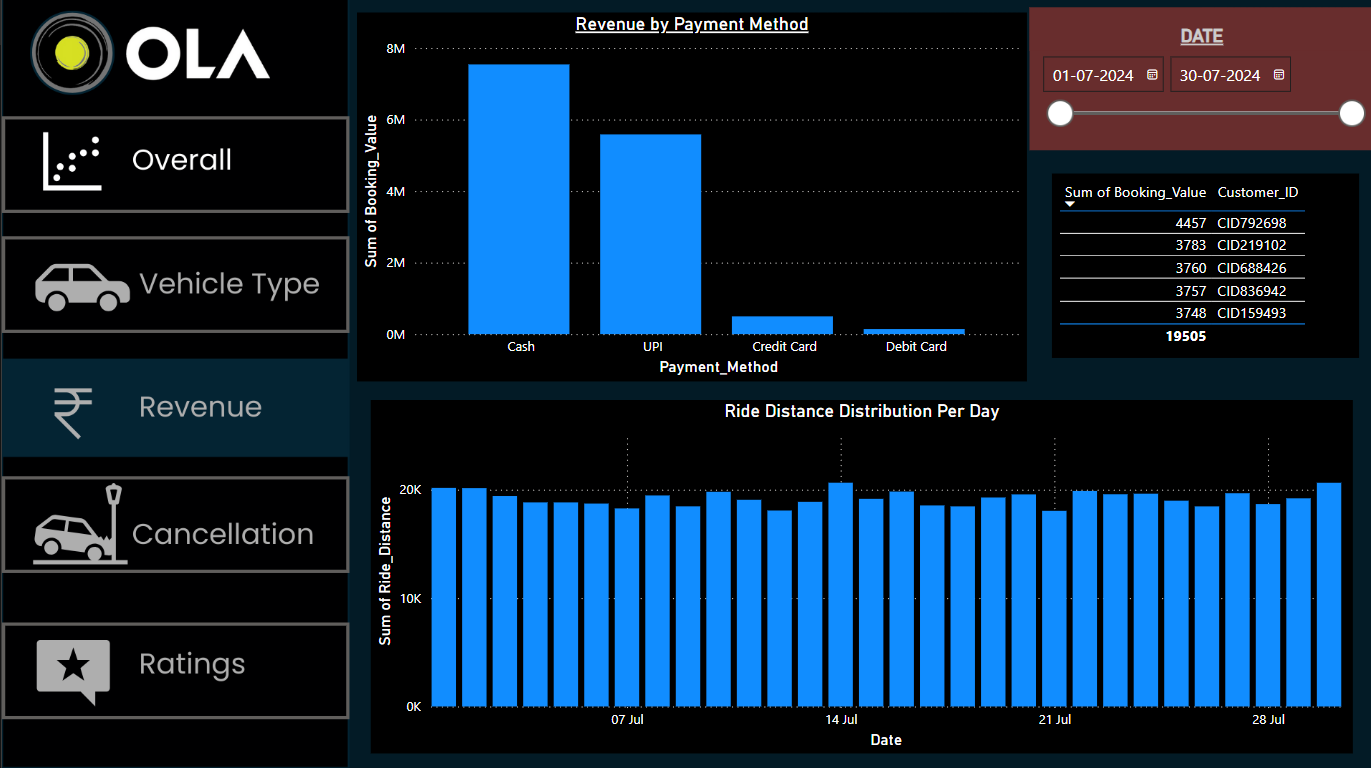

This screenshot's page, from the dashboard's own definition file:
{"tool":"powerbi","page":{"name":"Revenue","canvas":[1280,720],"ordinal":2},"visuals":[{"type":"actionButton","box":[0,113.3,323.3,90],"z":0},{"type":"actionButton","box":[0,224.4,323.3,90],"z":1000},{"type":"actionButton","box":[0,447.8,323.3,90],"z":2000},{"type":"actionButton","box":[0,583.3,323.3,90],"z":3000},{"type":"columnChart","title":"Revenue by Payment Method","fields":{"Category":["July.Payment_Method"],"Y":["Sum(July.Booking_Value)"]},"box":[330.2,16.3,623.3,343],"z":4000},{"type":"columnChart","title":"Ride Distance Distribution Per Day","fields":{"Y":["Sum(July.Ride_Distance)"],"Category":["July.Date"]},"box":[343,376.7,914,329.1],"z":5000},{"type":"slicer","title":"DATE","fields":{"Values":["July.Date"]},"box":[955.8,11.6,320.9,132.6],"z":6000},{"type":"tableEx","fields":{"Values":["Sum(July.Booking_Value)","July.Customer_ID"]},"box":[977,166,285.4,171.5],"z":7000}]}

Visuals, with their boxes in screenshot pixels (x1, y1, x2, y2), scaled from the page's 1280x720 canvas onto the 1371x768 screenshot:
actionButton: bbox=(0, 121, 346, 217)
actionButton: bbox=(0, 239, 346, 335)
actionButton: bbox=(0, 478, 346, 574)
actionButton: bbox=(0, 622, 346, 718)
"Revenue by Payment Method" columnChart: bbox=(354, 17, 1021, 383)
"Ride Distance Distribution Per Day" columnChart: bbox=(367, 402, 1346, 753)
"DATE" slicer: bbox=(1024, 12, 1367, 154)
tableEx - Sum(July.Booking_Value) x July.Customer_ID: bbox=(1046, 177, 1352, 360)
